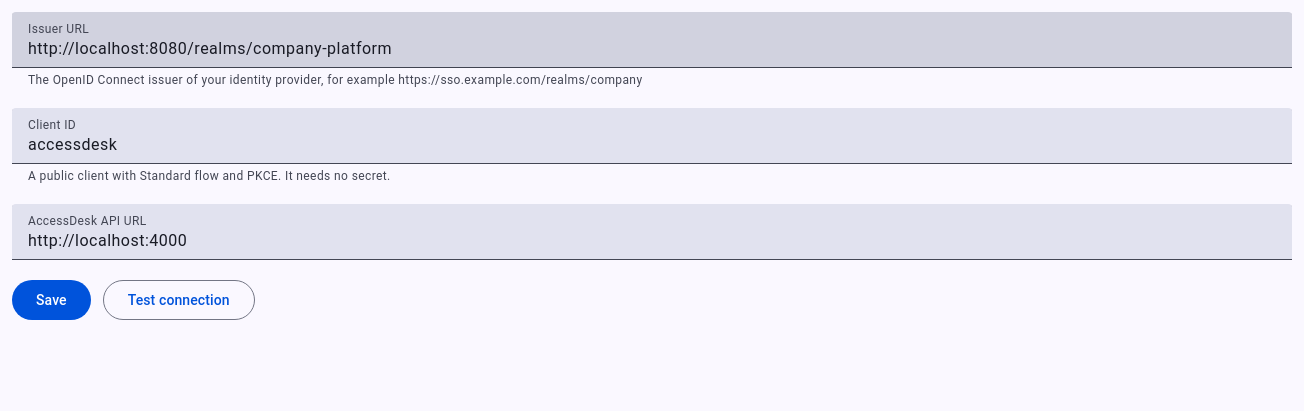
Test case: where toasts are used › does not confirm a save that failed
This screenshot has width=1304, height=411.
Click the button "Save". click: (51, 300)
box: [12,280,91,320]
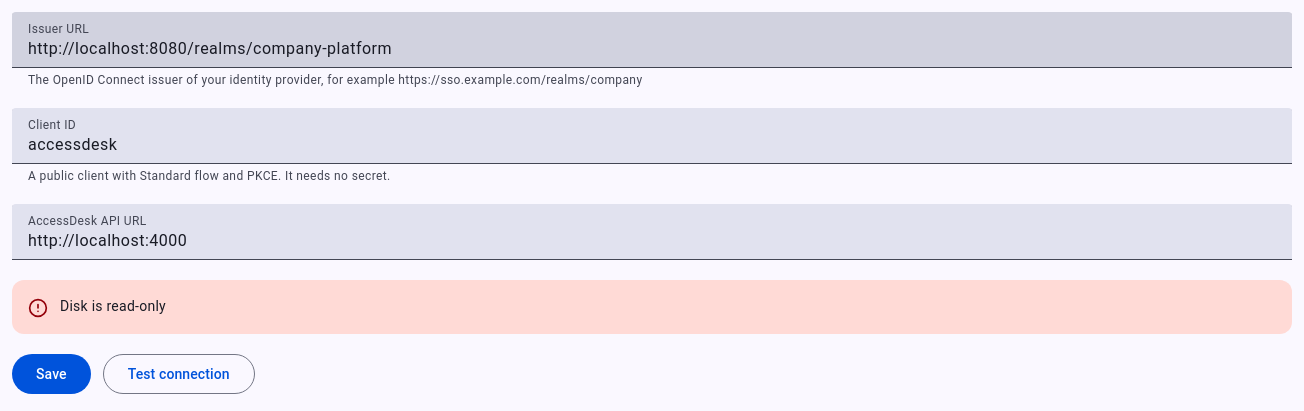
Result: the text "Disk is read-only" is shown at [60,298,166,314]
